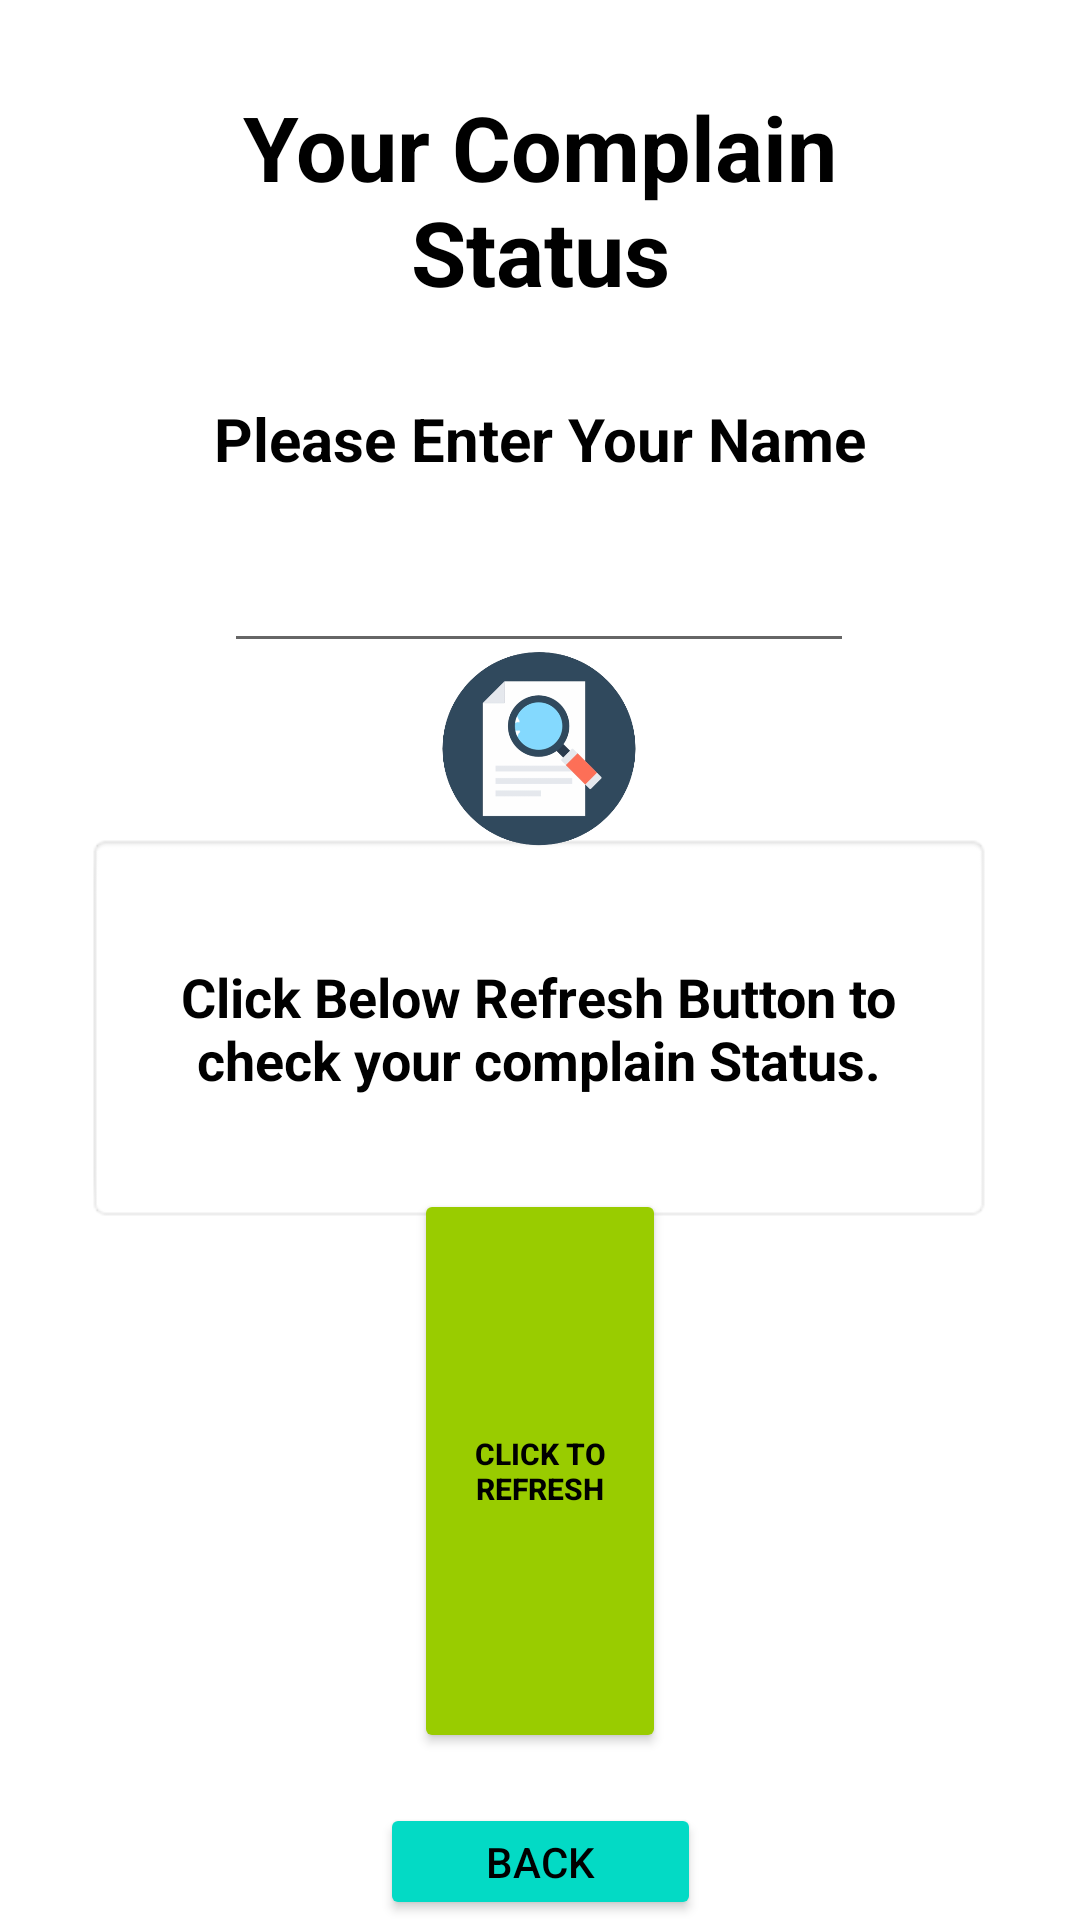

Icon click points for this 1080px x 1920px phone screenshot, format (x,y):
searchforproject: (539,749)
